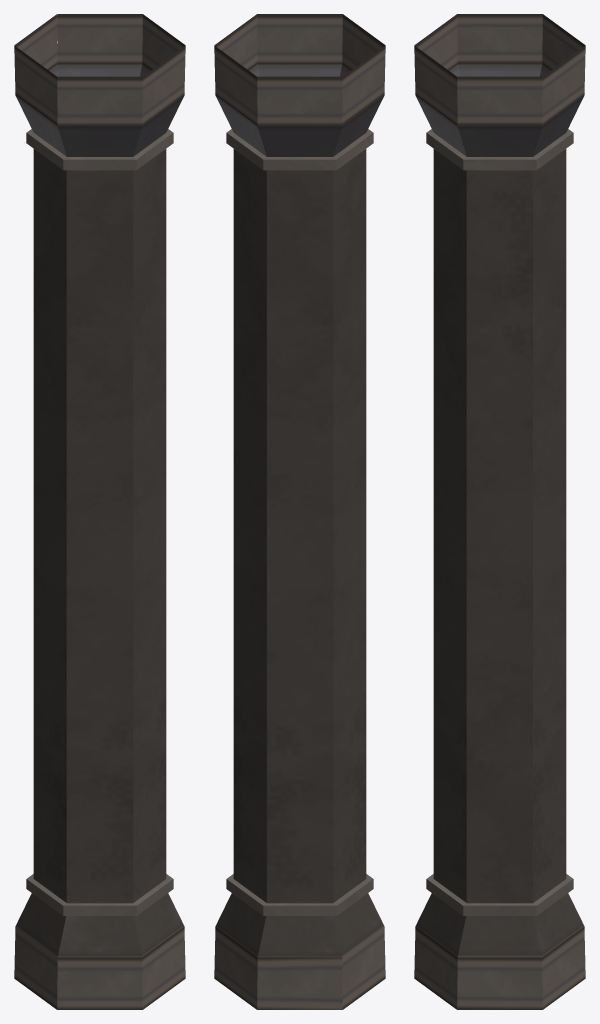
Rendered from PillarStoneBigAModel.fbx.
3 renders of one model, left to right at view 1: azimuth 30°, elevation 25°; view 2: azimuth 150°, elevation 25°; view 3: azimuth 270°, elevation 25°, orthographic.
Parts seen in each view (by area): view 1: PillarStoneBigAModel; view 2: PillarStoneBigAModel; view 3: PillarStoneBigAModel.
Part boxes in pixels (box(x1,y1,x2,y2)): PillarStoneBigAModel: box(14, 14, 185, 1009); PillarStoneBigAModel: box(214, 14, 385, 1009); PillarStoneBigAModel: box(414, 14, 585, 1009).
Bounding box in the file's own units: 202 × 1399 × 233.
1 material, 1 textured.
